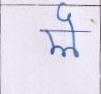au_matra: (57, 6, 83, 47)
